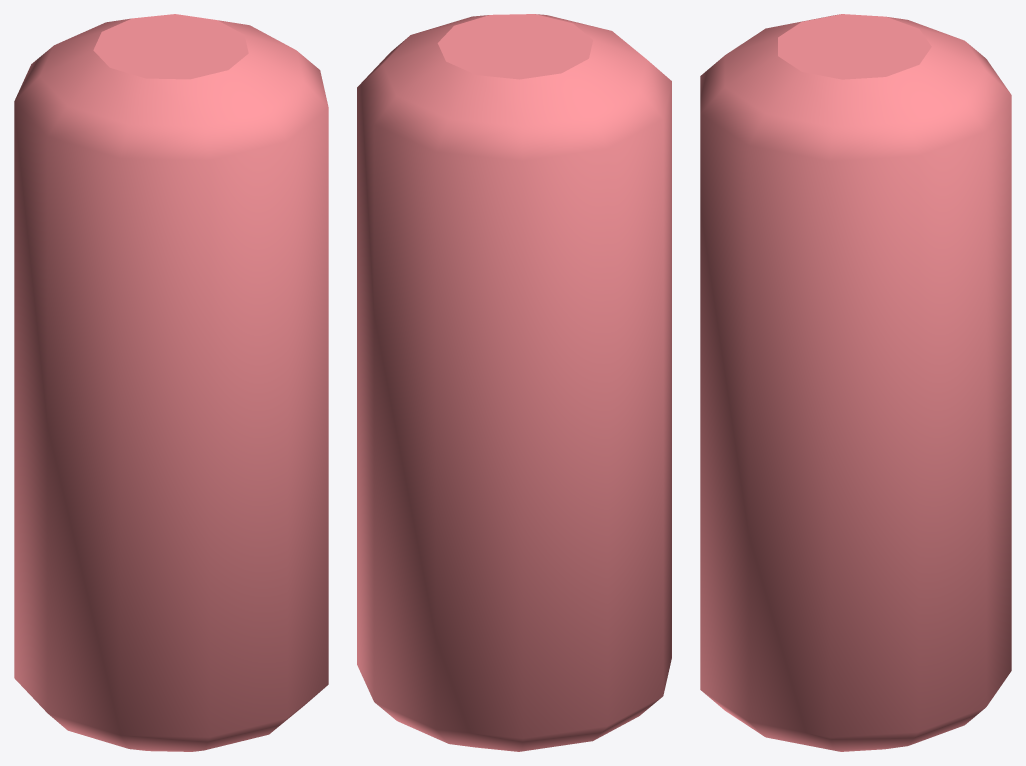
Rendered from sc_bullet_enemy_B.FBX.
3 renders of one model, left to right at view 1: azimuth 30°, elevation 25°; view 2: azimuth 150°, elevation 25°; view 3: azimuth 270°, elevation 25°, orthographic.
Visible parts, largest first — view 1: sc_bullet_enemy_B; view 2: sc_bullet_enemy_B; view 3: sc_bullet_enemy_B.
Part boxes in pixels (x1,y1,x2,y2): sc_bullet_enemy_B: (14,14,328,751); sc_bullet_enemy_B: (357,14,671,751); sc_bullet_enemy_B: (700,14,1011,751).
Bounding box in the file's own units: 0.3229 × 0.7612 × 0.3196.
